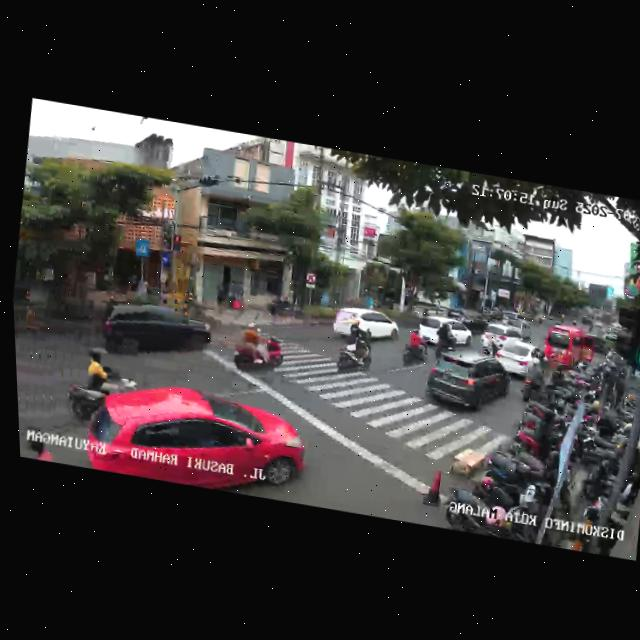car: (79, 372, 313, 504), (94, 294, 213, 374), (421, 346, 515, 421), (541, 321, 602, 378), (331, 303, 401, 349), (490, 335, 548, 387), (415, 312, 474, 350), (482, 320, 526, 354)
motorcycle: (60, 346, 119, 428), (229, 318, 289, 380), (333, 320, 378, 382), (398, 323, 433, 371), (432, 320, 457, 360)
